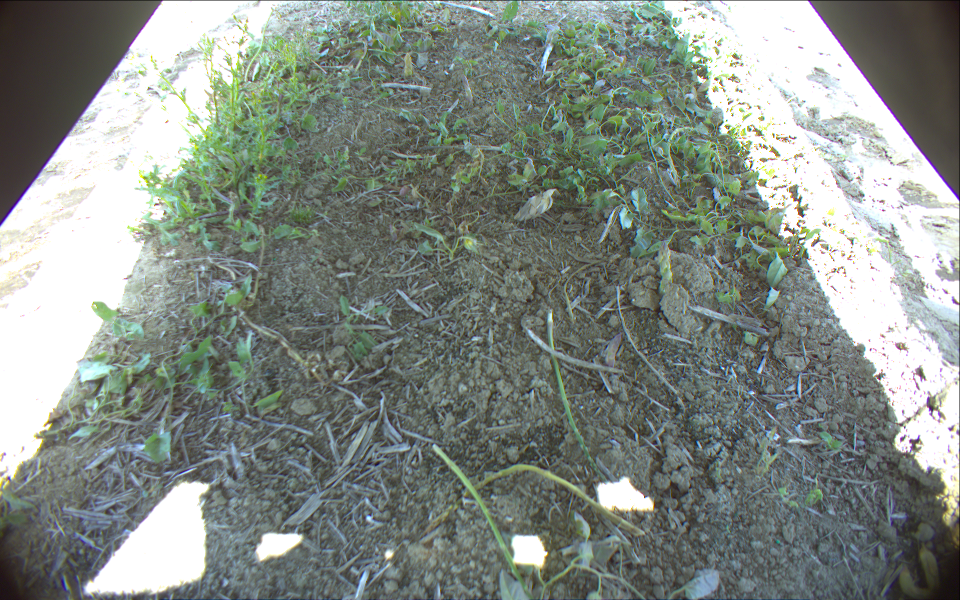aspa: (433, 443, 531, 598), (465, 464, 644, 536), (547, 308, 598, 471), (668, 126, 699, 176)
